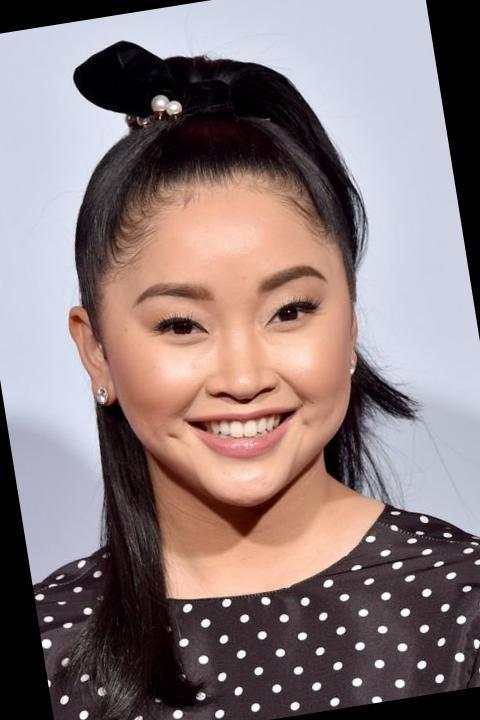Sober: (121, 205, 339, 485)
